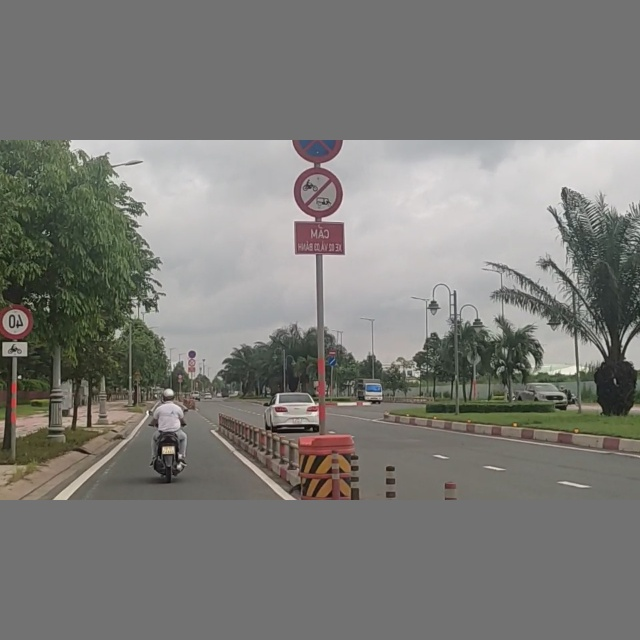P.111: (294, 167, 349, 216)
P.127*40: (0, 305, 31, 340)
S.505a*Xe may: (1, 340, 29, 356)
